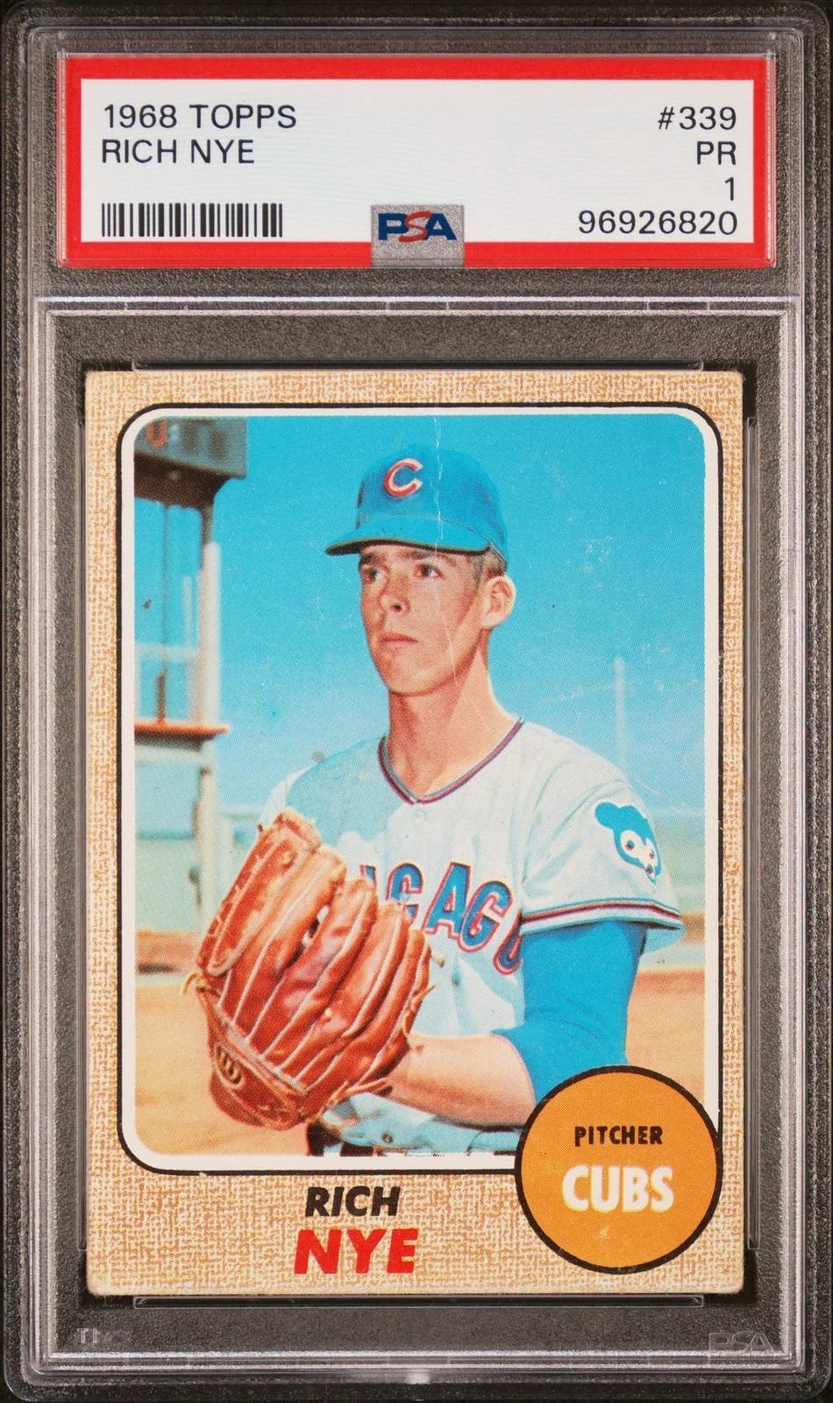card-2UtV: (84, 368, 745, 1298)
